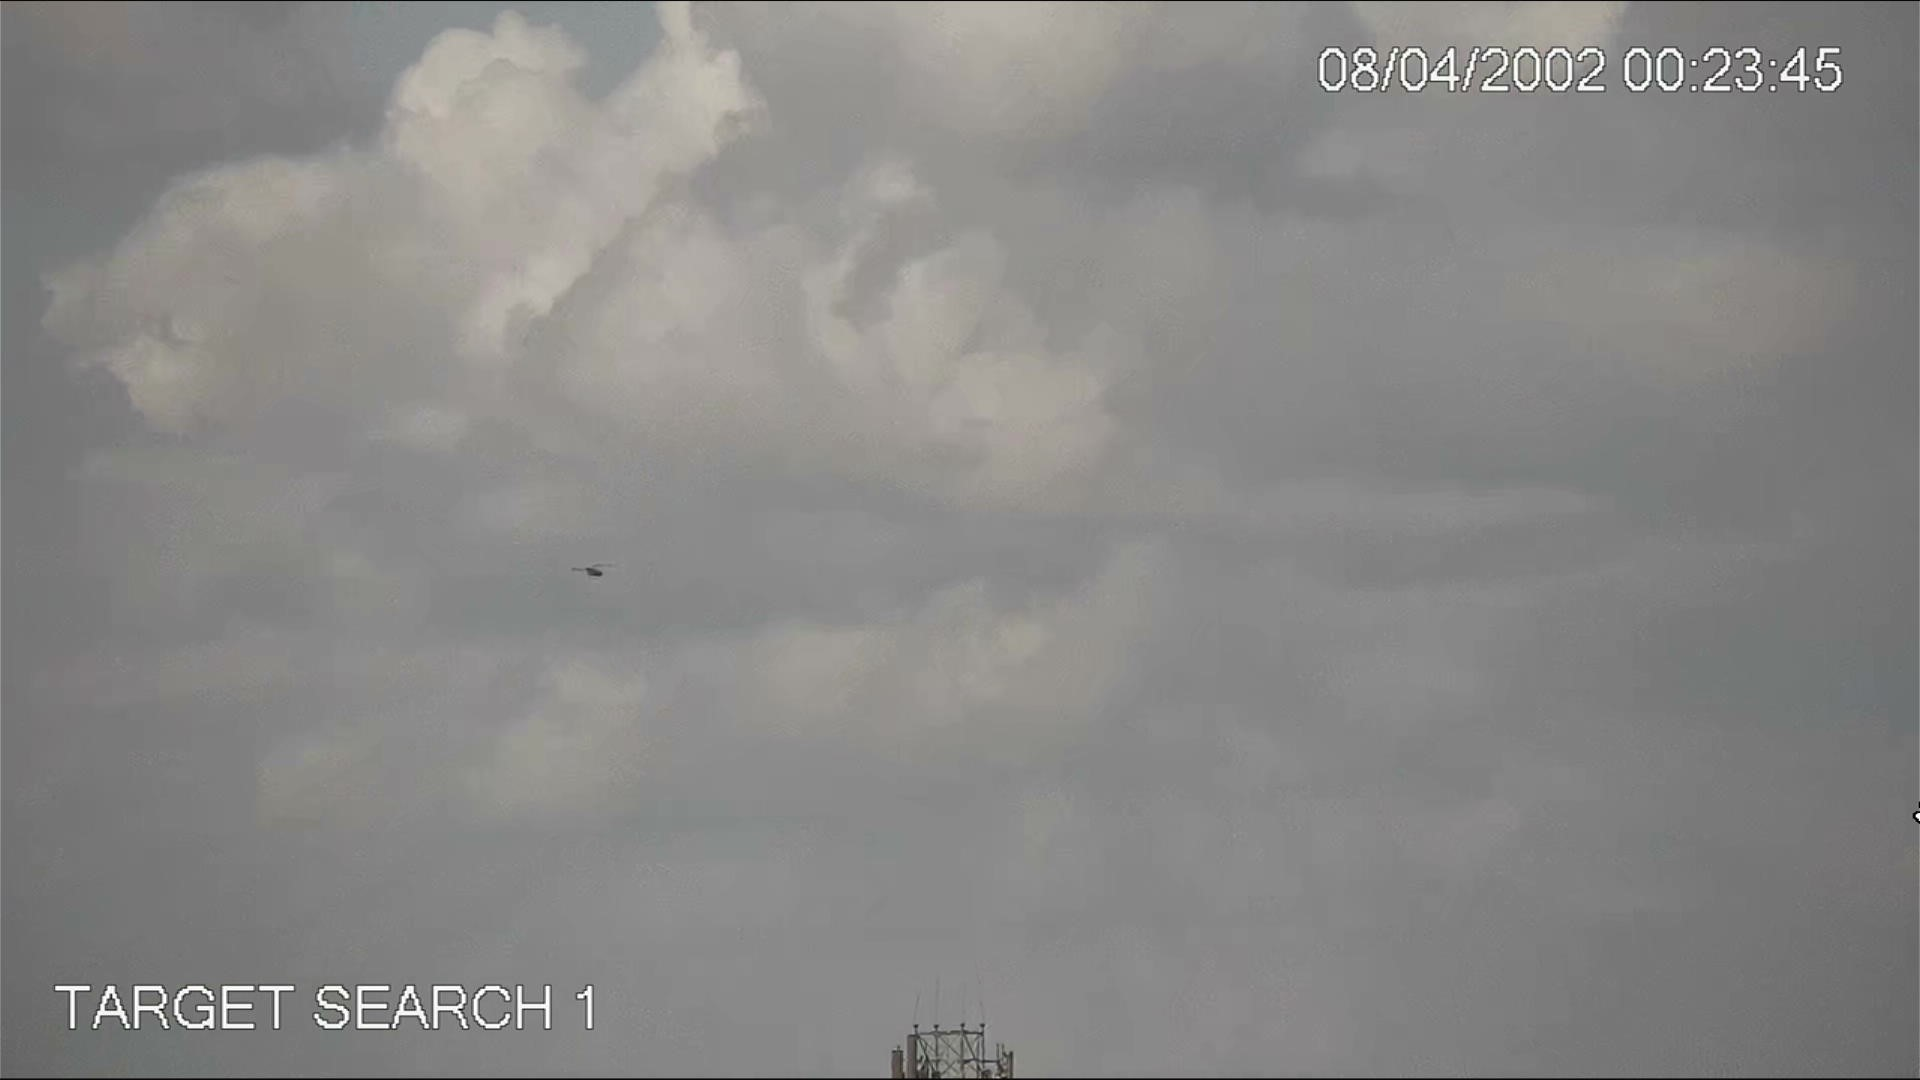SU_30: (568, 560, 616, 583)
